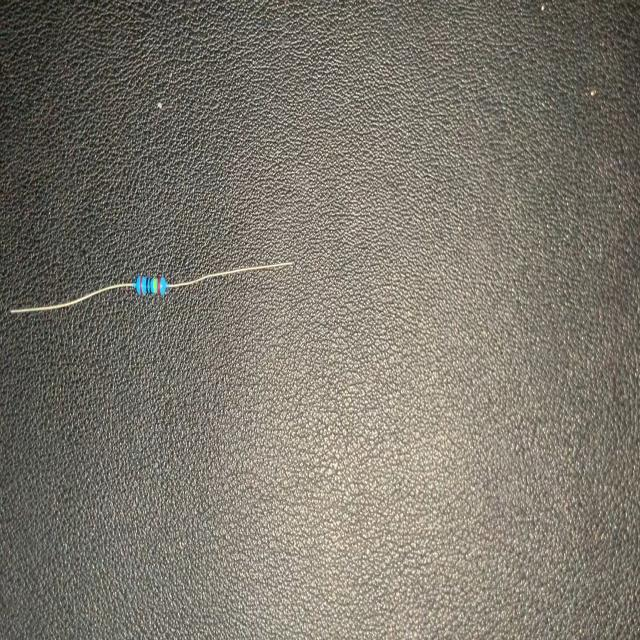resistor: (7, 255, 299, 322)
